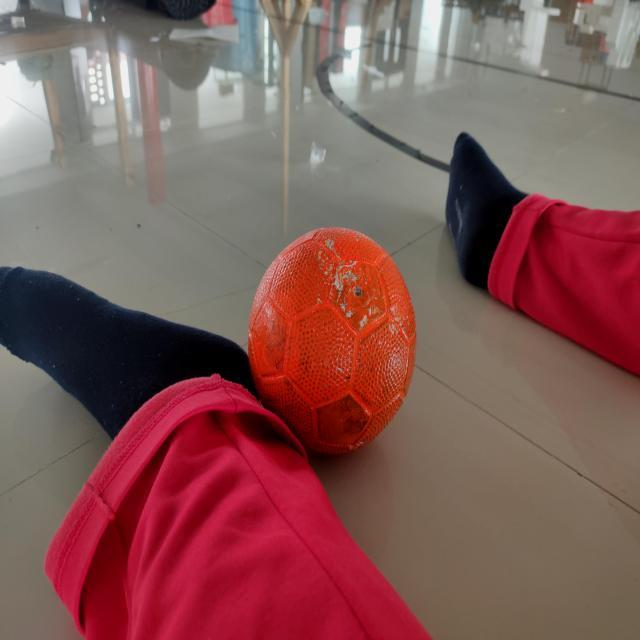bola: (248, 220, 420, 460)
